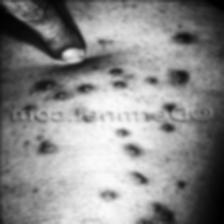Non-Cancerous Skin Condition: (10, 68, 192, 108), (101, 171, 190, 224), (109, 121, 177, 157), (22, 133, 62, 155), (173, 32, 189, 44)
